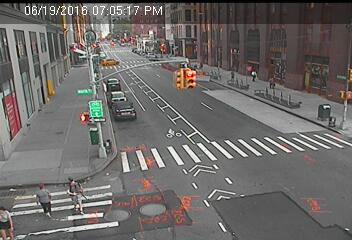neg: (279, 126, 301, 156), (235, 137, 257, 166), (54, 74, 71, 98), (142, 155, 158, 177), (162, 66, 178, 87), (191, 146, 206, 166), (190, 102, 202, 118), (297, 80, 309, 96), (134, 99, 146, 114), (147, 36, 159, 51), (213, 78, 224, 93), (88, 47, 99, 61), (183, 33, 193, 46), (87, 116, 96, 128), (244, 18, 252, 29), (300, 40, 307, 49), (63, 139, 67, 144)
pos: (27, 179, 57, 220), (58, 173, 86, 212), (248, 65, 261, 82), (266, 75, 278, 90)
